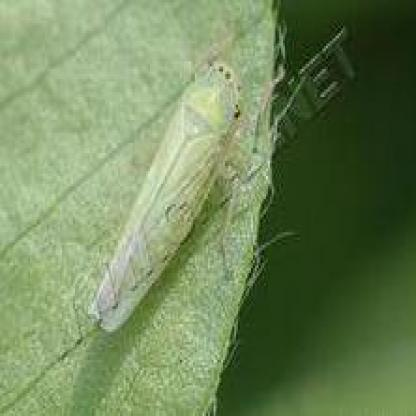Green-Leafhopper: (89, 56, 241, 338)
